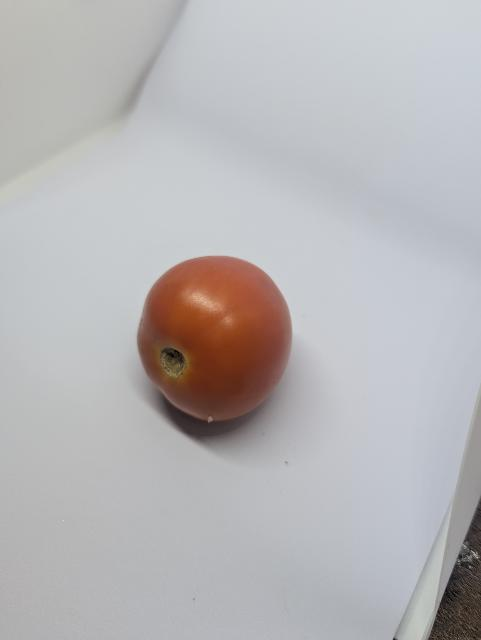red: (130, 250, 305, 433)
